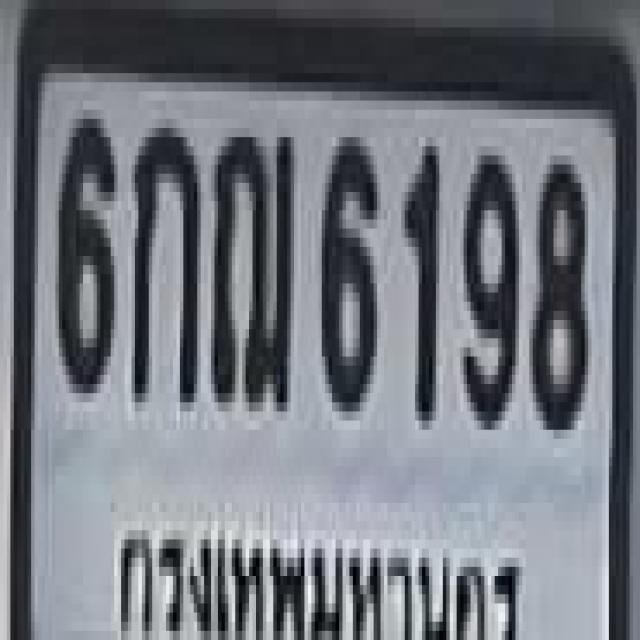-: (208, 119, 290, 402), (128, 119, 197, 393)
1: (401, 137, 436, 412)
6: (55, 110, 111, 384), (318, 128, 374, 402)
8: (529, 156, 585, 420)
9: (460, 146, 516, 421)
BKK: (104, 496, 534, 640)
